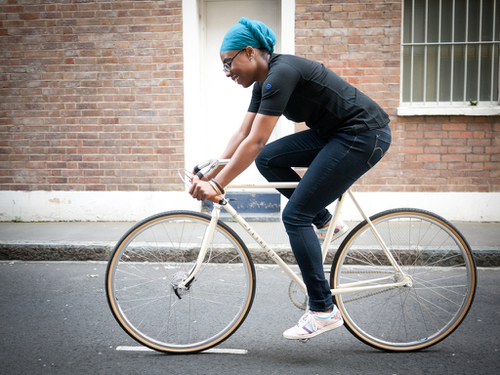bikerider: (88, 17, 477, 365)
